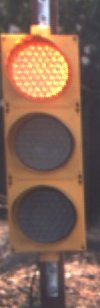Red: (1, 21, 97, 281)
